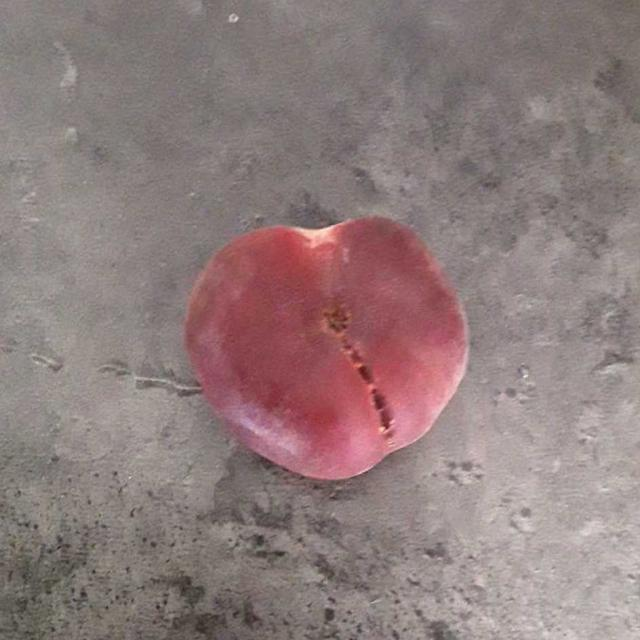peach: (185, 220, 467, 480)
